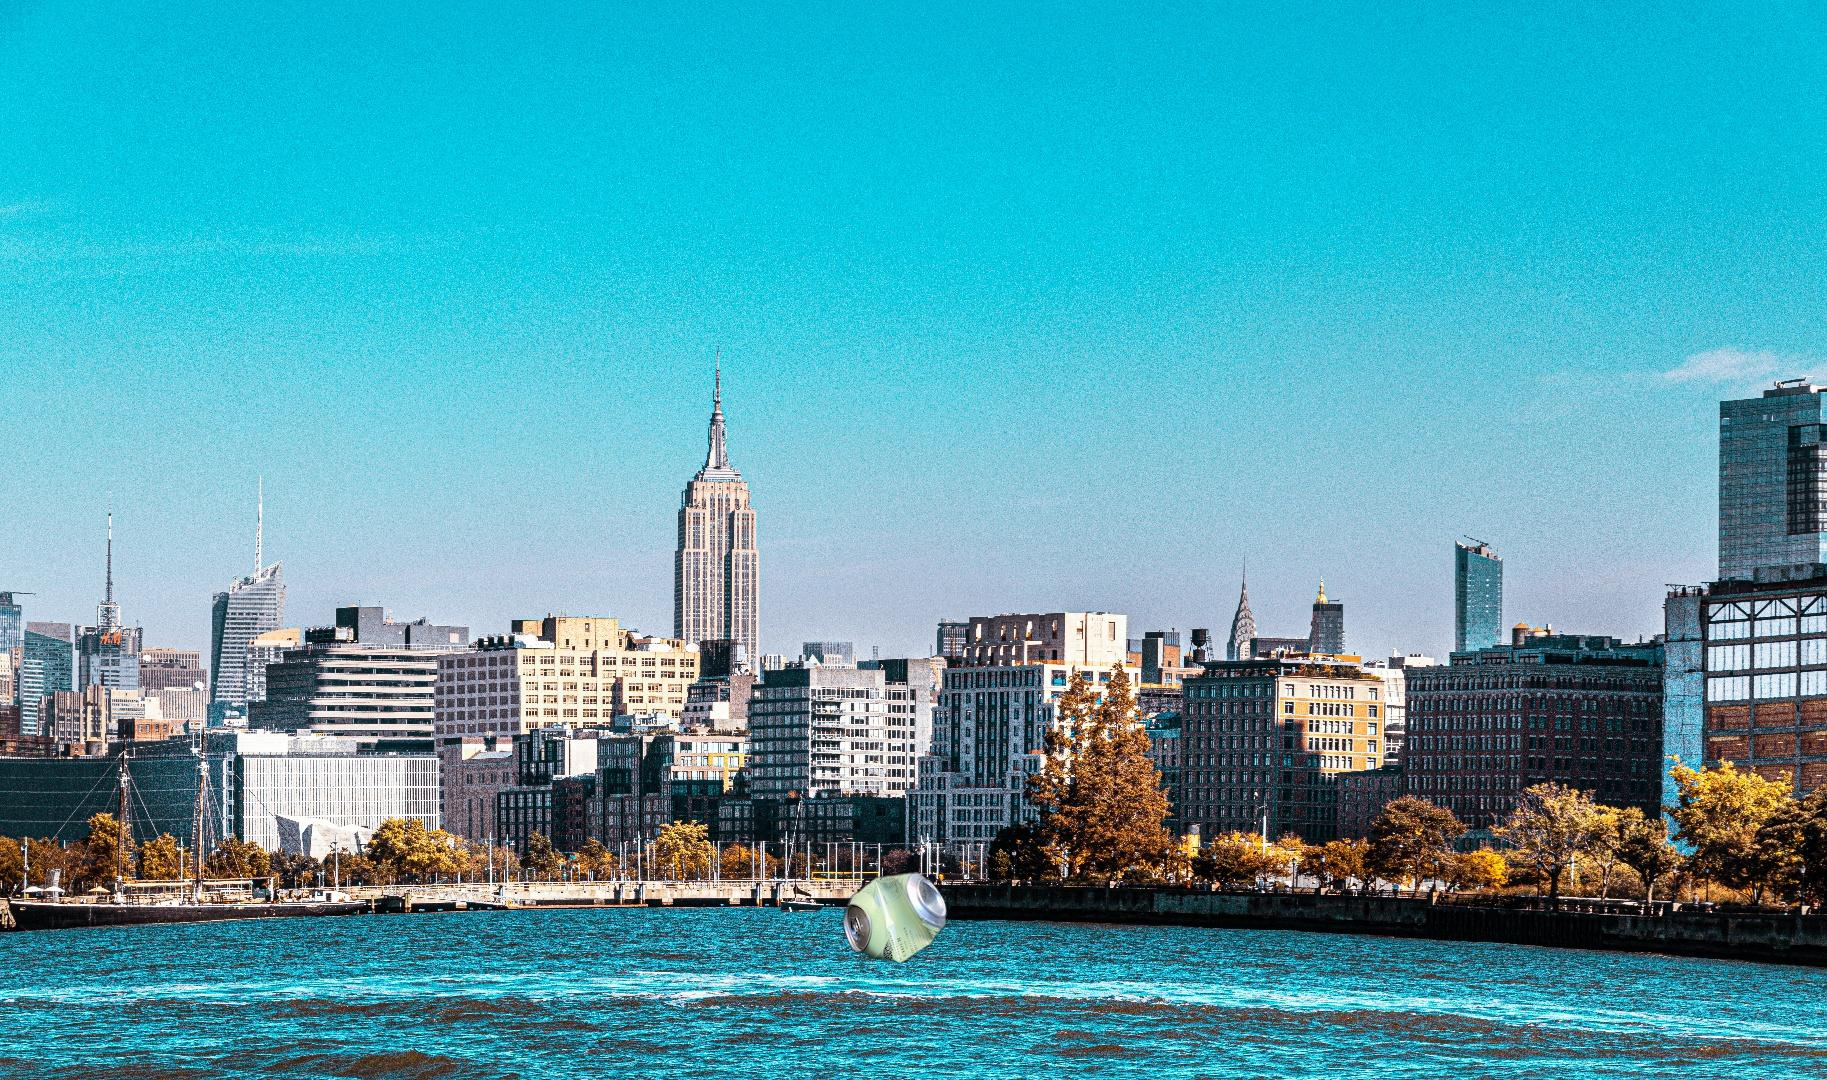metal-cans: (838, 867, 951, 969)
